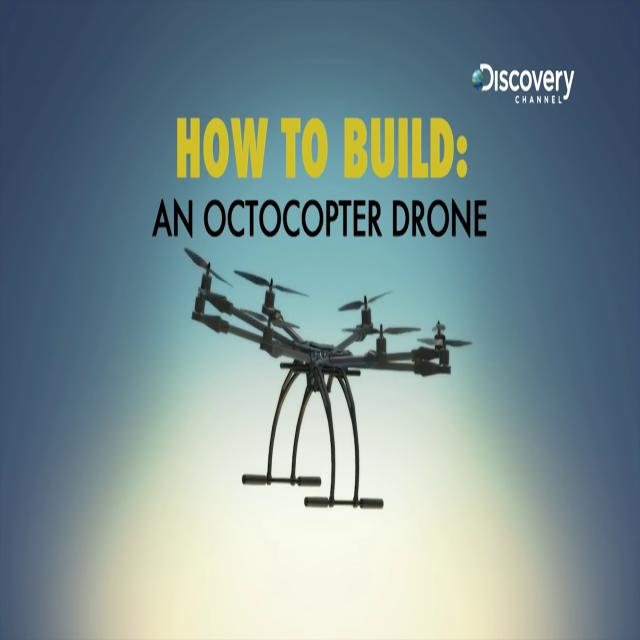drone: (185, 248, 454, 547)
